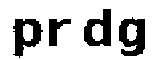d: (83, 3, 113, 50)
g: (117, 14, 147, 60)
p: (11, 18, 43, 60)
r: (48, 18, 75, 51)
